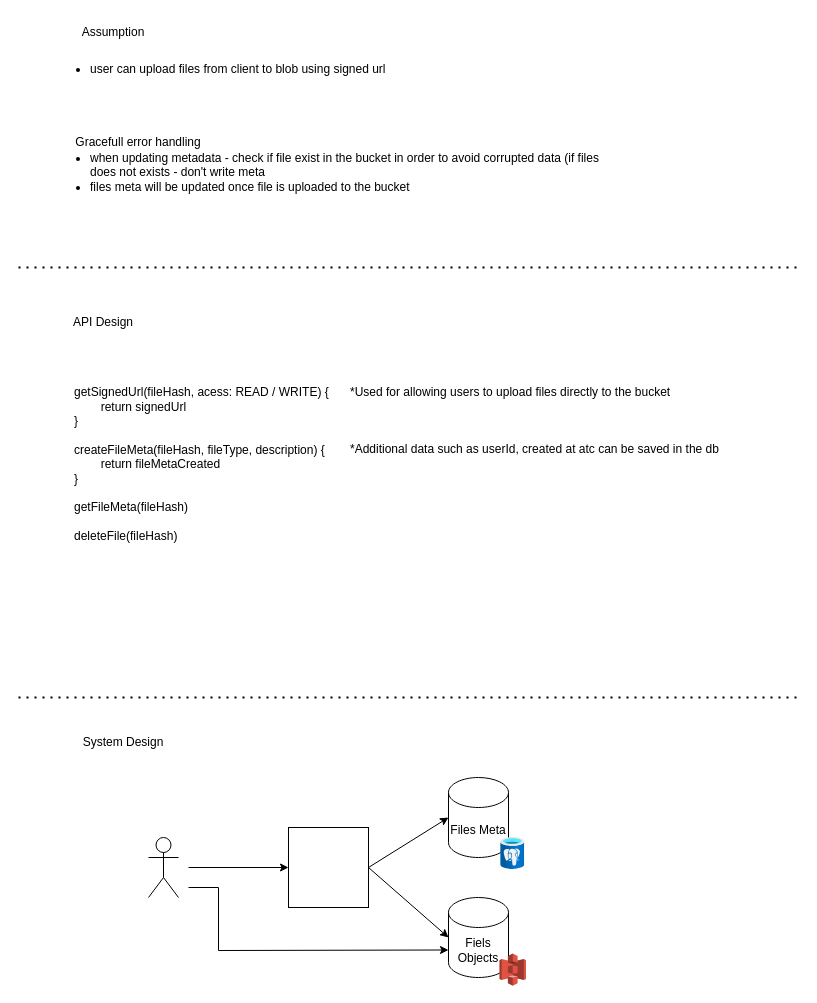
This 817x1003 diagram has some shape labels left out. The shapes that lost their labels are listed below. From the top down, each one's centre as x and y in pixels, then its label:
point (163, 867): Actor
point (328, 867): Files Service
